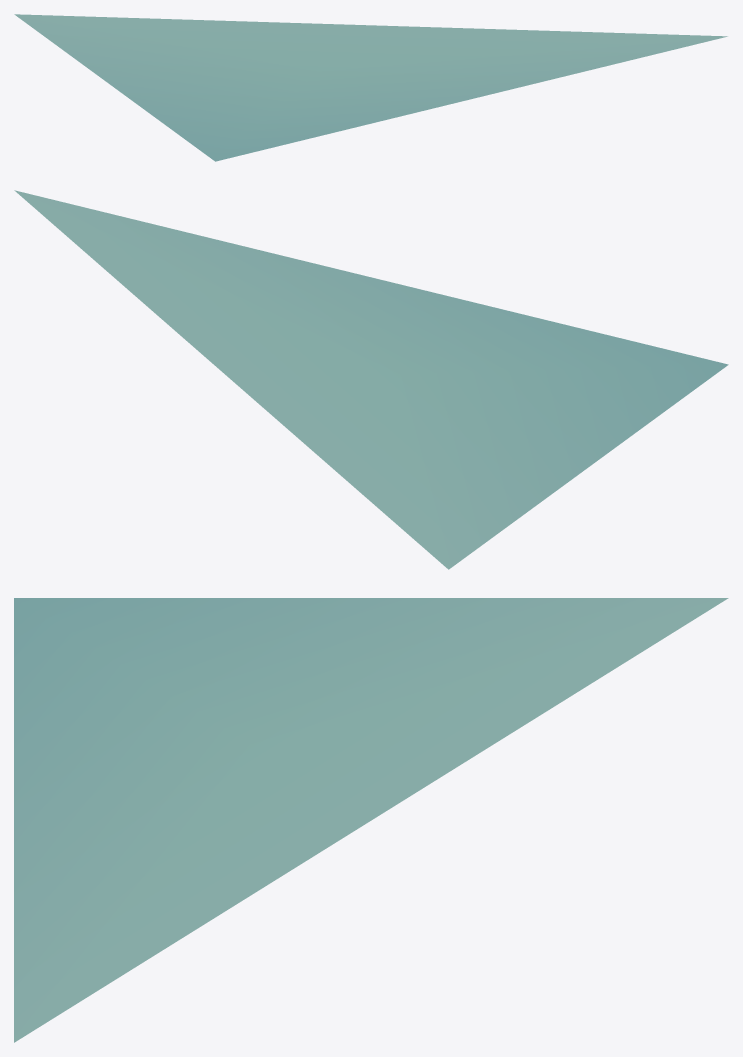
The model's file is water-15-7.glb.
The picture shows the model from 3 angles, top to bottom: view 1: azimuth 30°, elevation 25°; view 2: azimuth 150°, elevation 25°; view 3: azimuth 270°, elevation 25°; orthographic projection. The views are drawn at different scales.
Size of the model in its own units: 3.77 by 0 by 2.56.
